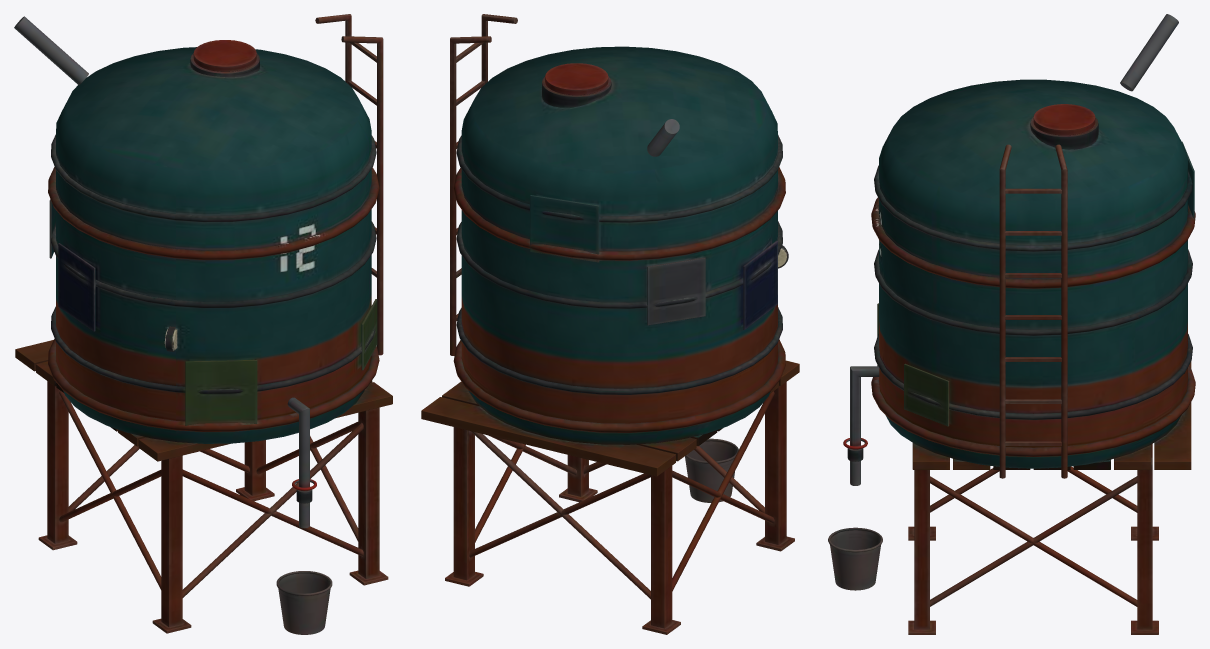
Rendered from water_tank_fringe.glb.
3 views of the same model, side by side, from view 1: azimuth 30°, elevation 25°; view 2: azimuth 150°, elevation 25°; view 3: azimuth 270°, elevation 25° (orthographic). The views are drawn at different scales.
Parts seen in each view (by area): view 1: water_tank_fringe; view 2: water_tank_fringe; view 3: water_tank_fringe.
Part boxes in pixels (bbox=[...]): water_tank_fringe: bbox=[14, 14, 392, 634]; water_tank_fringe: bbox=[421, 14, 799, 634]; water_tank_fringe: bbox=[828, 14, 1195, 634].
Bounding box in the file's own units: 2.17 × 3.64 × 2.38.
1 material, 1 textured.
